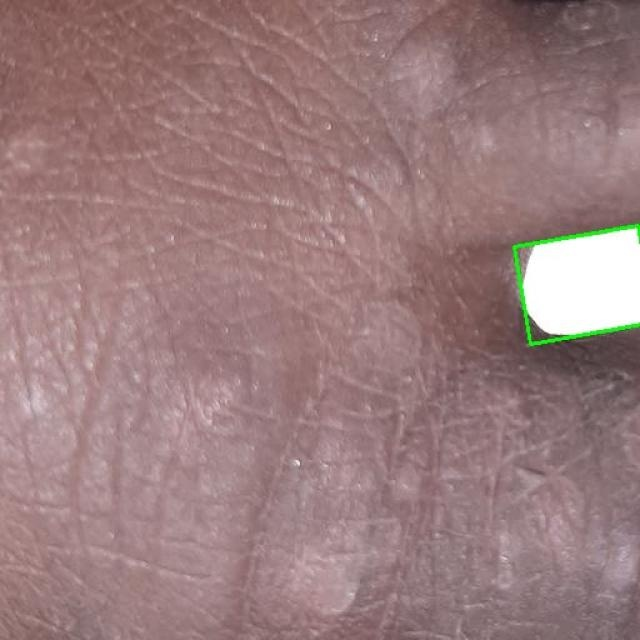Eczema: (514, 226, 640, 345)
